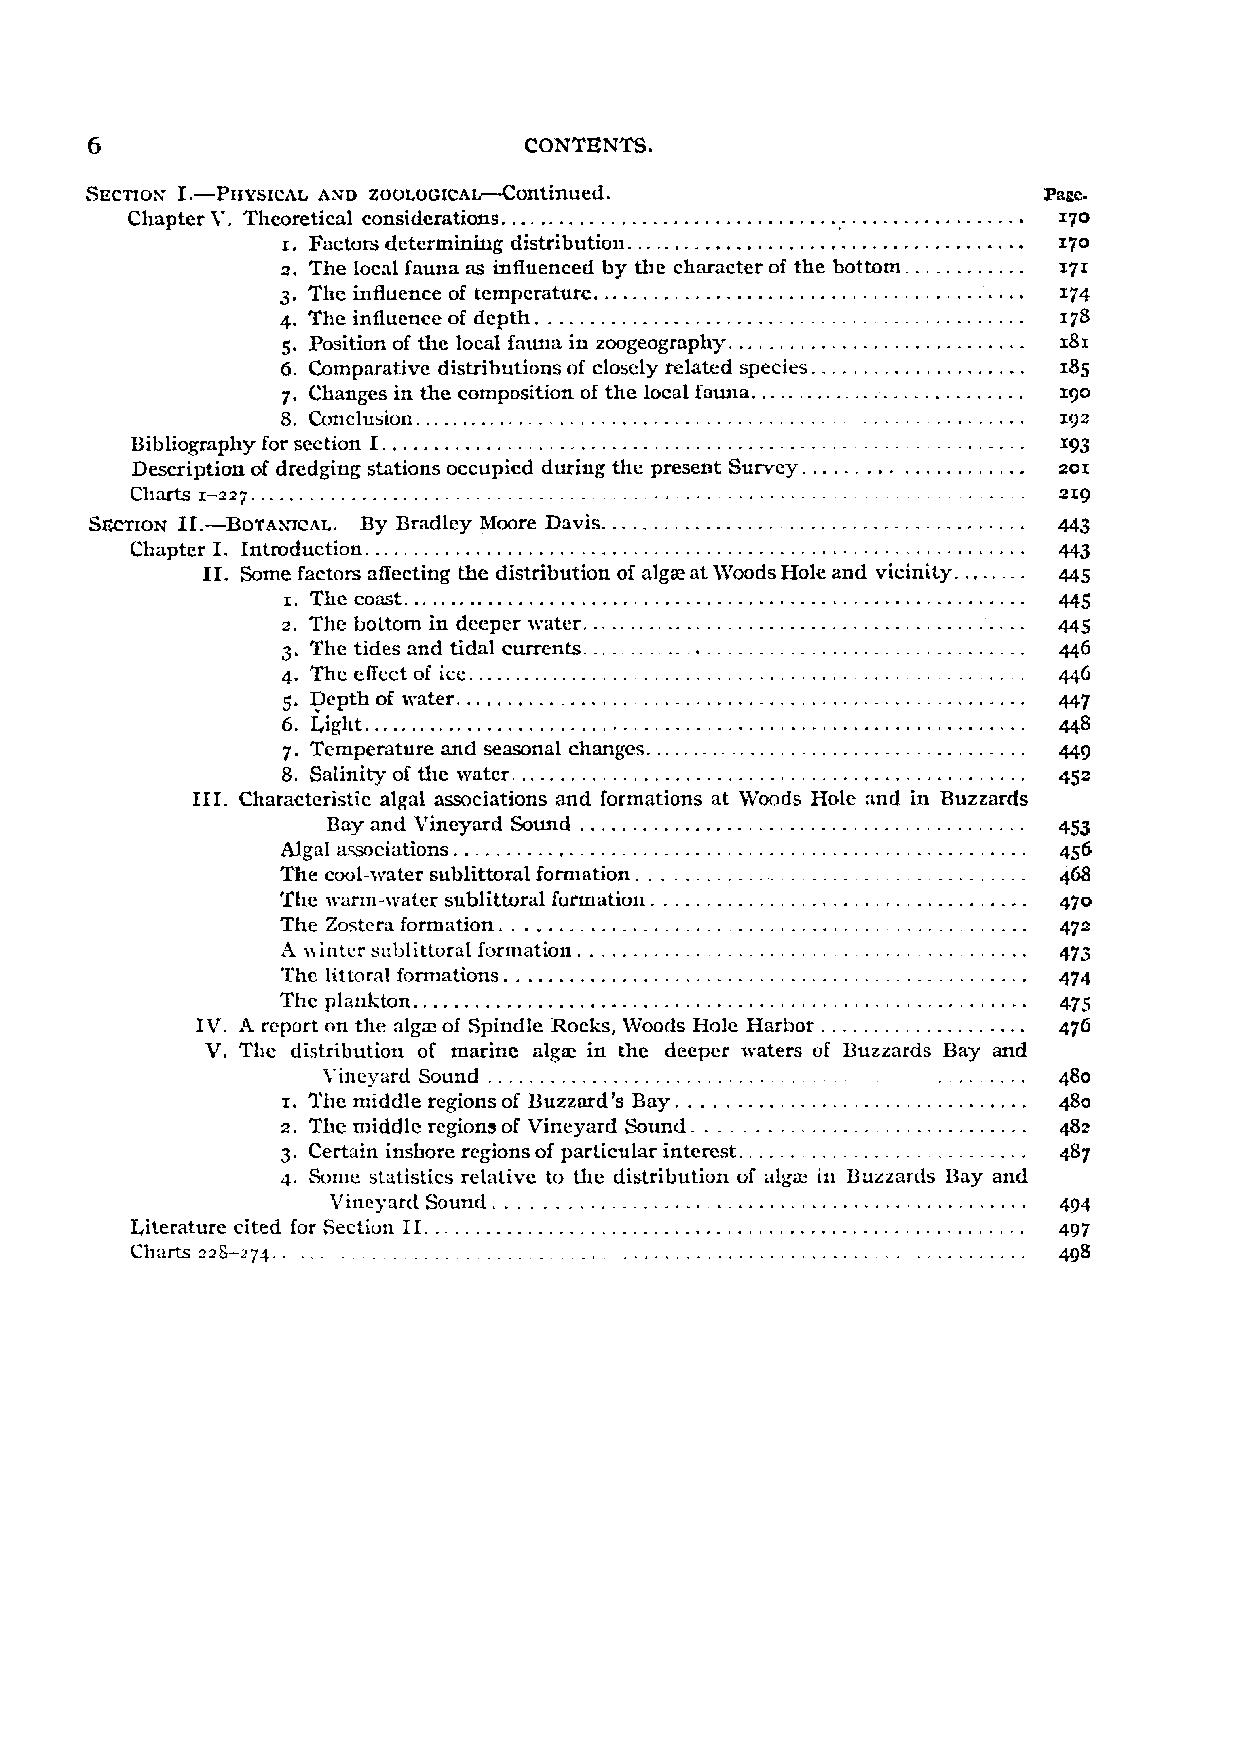TOC_chapter: (203, 1037, 1031, 1090), (188, 786, 1029, 833), (276, 1166, 1036, 1215), (199, 564, 955, 582), (132, 458, 800, 478), (195, 1015, 815, 1036), (274, 356, 809, 380), (279, 382, 752, 407), (276, 1139, 737, 1164), (78, 181, 615, 201), (276, 259, 900, 275), (86, 513, 603, 531), (279, 333, 727, 354), (276, 1113, 688, 1135), (123, 205, 501, 229), (274, 887, 645, 909), (276, 1092, 672, 1113), (127, 1215, 423, 1241), (279, 738, 643, 760), (276, 862, 631, 883), (278, 639, 582, 662), (276, 283, 595, 305), (276, 938, 576, 961), (278, 613, 582, 633), (127, 431, 378, 455), (280, 307, 531, 330), (276, 234, 625, 250), (129, 535, 362, 558), (276, 964, 499, 986), (278, 913, 497, 935), (280, 764, 513, 784), (280, 687, 458, 711), (278, 836, 452, 859), (280, 664, 468, 684), (276, 989, 412, 1011), (126, 1241, 268, 1261), (278, 409, 413, 429), (129, 483, 250, 505), (280, 590, 403, 609), (275, 711, 364, 734)
TOC_pagenumber: (1057, 354, 1092, 378), (1057, 941, 1092, 965), (1057, 1240, 1092, 1264), (1053, 713, 1092, 734), (1053, 737, 1090, 760), (1053, 205, 1092, 225), (1057, 539, 1091, 562), (1057, 662, 1091, 684), (1059, 890, 1092, 913), (1057, 1015, 1091, 1037), (1057, 1139, 1091, 1162), (1057, 915, 1092, 937), (1055, 1090, 1090, 1111), (1053, 819, 1092, 837), (1053, 433, 1090, 454), (1056, 515, 1092, 535), (1057, 840, 1091, 862), (1057, 483, 1092, 503), (1057, 590, 1092, 611), (1055, 688, 1090, 709), (1057, 993, 1092, 1013), (1057, 1193, 1092, 1213), (1056, 232, 1088, 254), (1056, 283, 1090, 303), (1057, 766, 1091, 786), (1057, 566, 1092, 585), (1057, 307, 1090, 327), (1057, 384, 1090, 404), (1057, 637, 1090, 658), (1060, 863, 1092, 883), (1057, 1117, 1091, 1135), (1056, 616, 1091, 633), (1057, 969, 1090, 988), (1057, 1220, 1090, 1239), (1059, 331, 1088, 352), (1057, 1067, 1090, 1084), (1057, 411, 1088, 427), (1057, 462, 1088, 478), (1057, 258, 1087, 274)
chapter: (517, 130, 654, 161)
